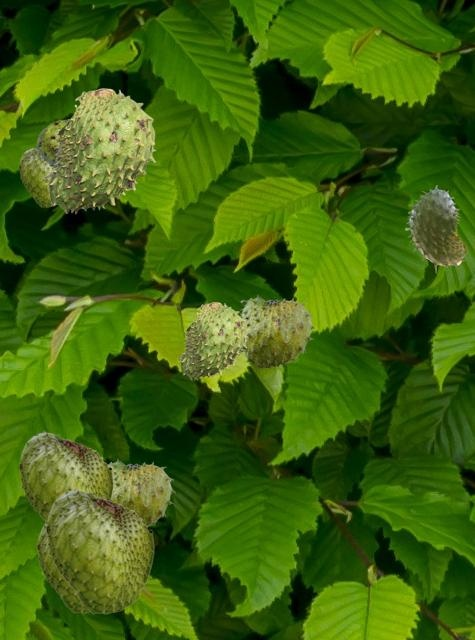guyabano: (43, 88, 155, 213), (46, 487, 153, 613), (19, 430, 112, 524), (239, 294, 314, 368), (405, 185, 467, 272), (177, 302, 246, 379), (37, 524, 89, 612), (108, 458, 174, 527), (19, 147, 56, 206), (36, 119, 68, 167)
